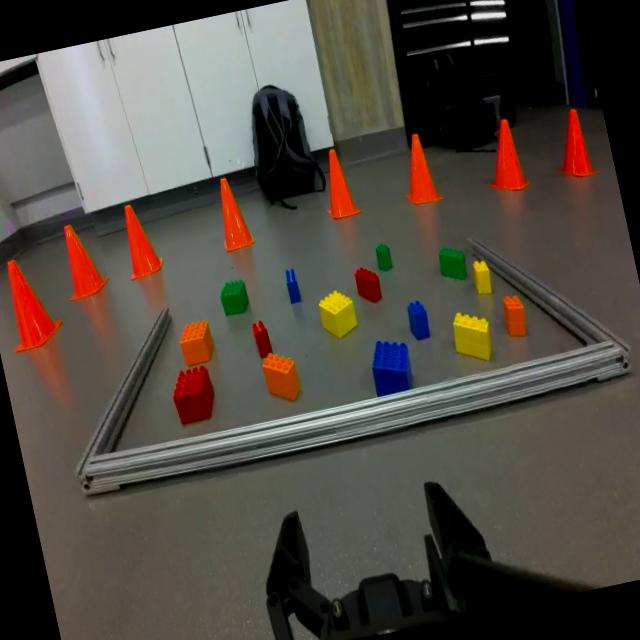block: (447, 301, 498, 368), (315, 285, 361, 341), (471, 256, 494, 298)
blue: (364, 331, 416, 398), (404, 298, 434, 343), (281, 263, 303, 306)
cone: (0, 248, 69, 361), (52, 216, 112, 306), (477, 114, 532, 198), (392, 126, 446, 210), (545, 100, 599, 184), (115, 199, 167, 282), (212, 174, 258, 256), (316, 142, 362, 223)
green: (435, 238, 472, 287), (216, 276, 253, 318), (374, 242, 396, 272)
metal barrier: (73, 236, 632, 499)
orange: (258, 346, 305, 408), (175, 316, 218, 366), (499, 292, 532, 342)
red goal: (168, 362, 218, 427), (351, 261, 387, 310), (250, 316, 275, 359)
